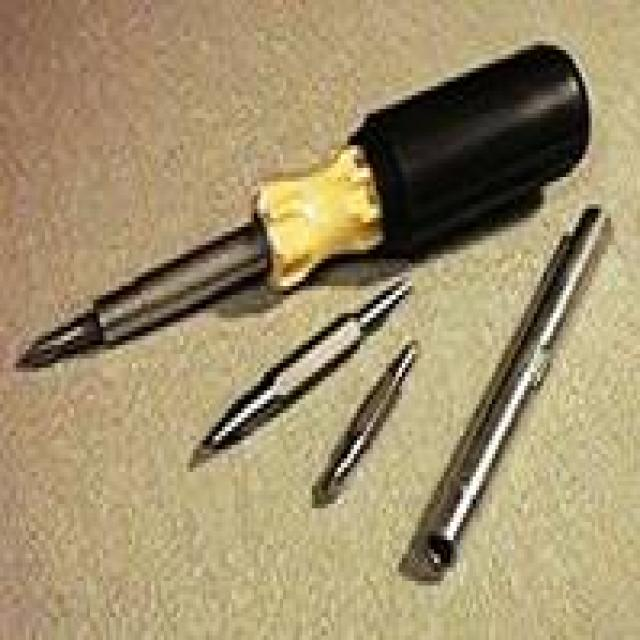screw driver: (0, 28, 625, 400)
